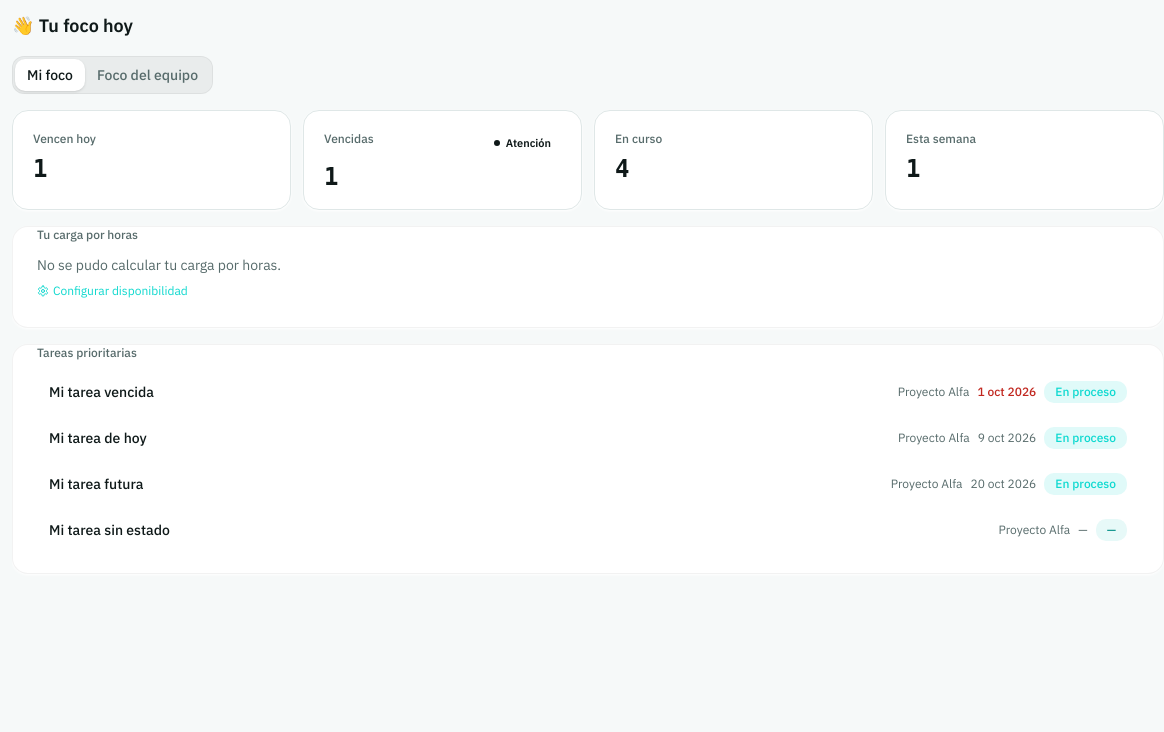
Test: MyFocusToday › sin tareas del equipo: mensaje vacío en el equipo y la vista personal intacta
Click the tab "Foco del equipo".
click(147, 75)  # box [85,59,210,91]
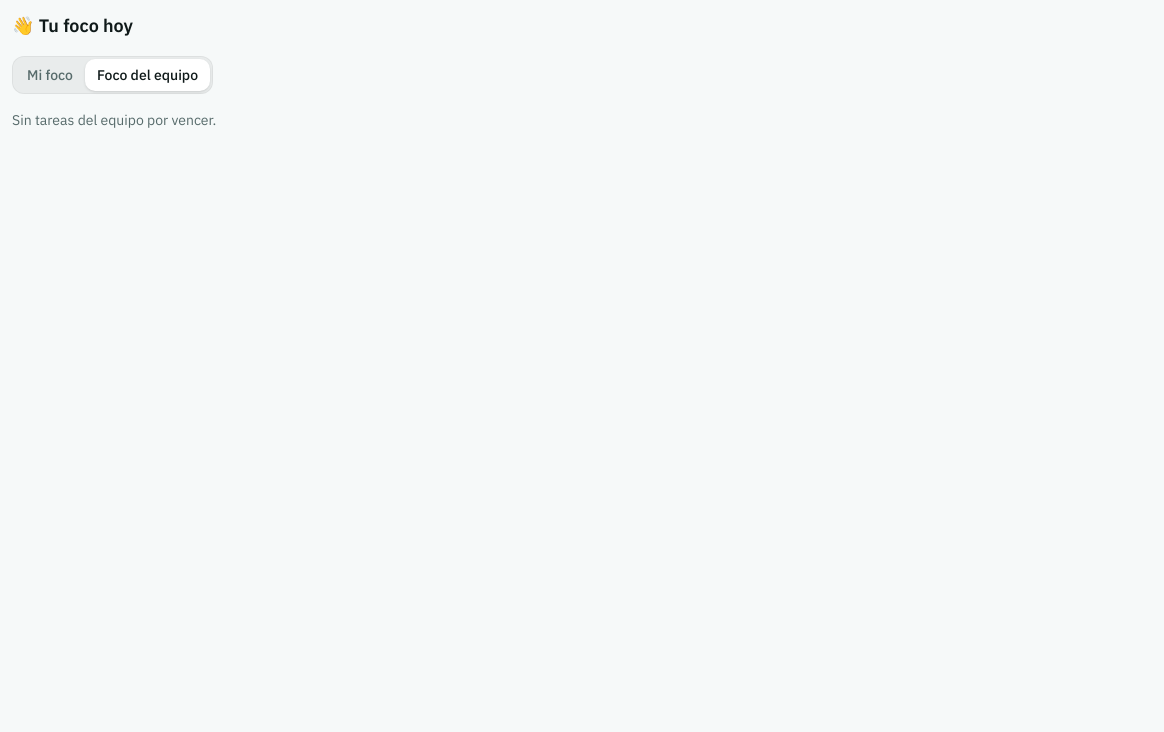
Expected: the text "Sin tareas del equipo por vencer." is shown, [12,111,216,129]
